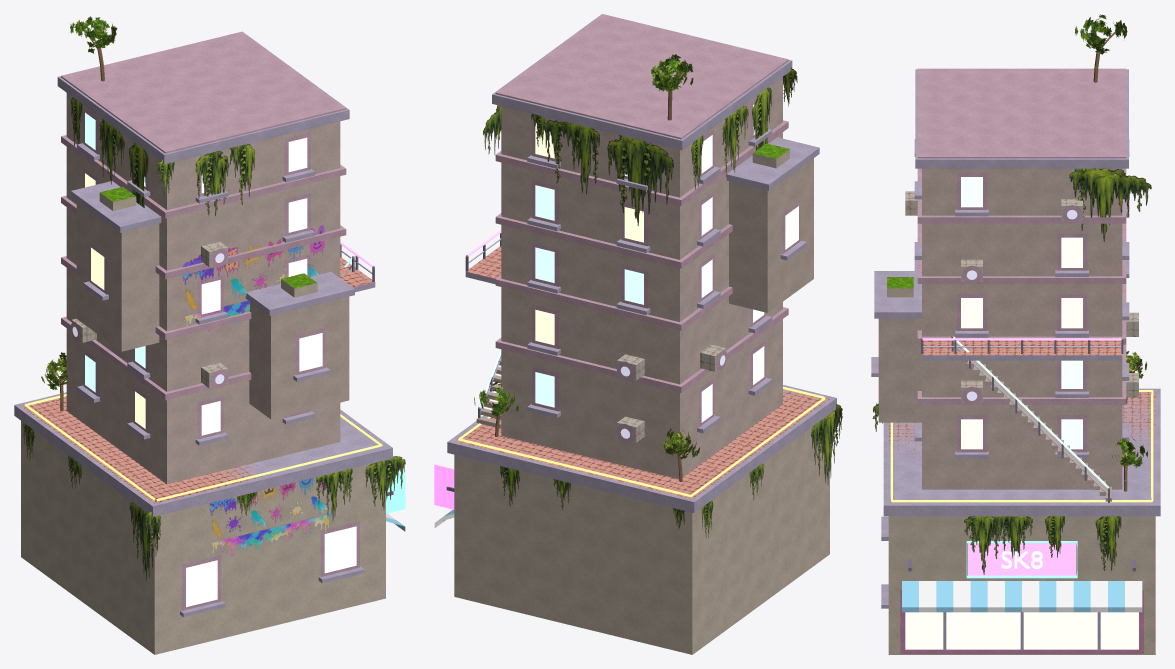
The model's file is MARKET_EAST.glb.
The picture shows the model from 3 angles, left to right: view 1: azimuth 30°, elevation 25°; view 2: azimuth 150°, elevation 25°; view 3: azimuth 270°, elevation 25°; orthographic projection. The views are drawn at different scales.
Parts seen in each view (by area): view 1: MK_East_Body.001, MK_East_Moss2.001, MK_East_Moss.001, MK_East_Trees.001, East_RoofLedge_Rail.001; view 2: MK_East_Body.001, MK_East_Moss2.001, MK_East_Moss.001, MK_East_Trees.001, East_RoofLedge_Rail.001; view 3: MK_East_Body.001, MK_East_Moss.001, MK_East_Moss2.001, MK_East_Trees.001, East_RoofLedge_Rail.001, East_BalconyRail_Posts.001, East_BalconyRail_Rail.001, East_StairRail_Posts.001, East_StairRail_Rail.001, East_ShopText.001.
Boxes of the visible parts, left/top/right/bottom form: MK_East_Body.001: left=14, top=31, right=405, bottom=654; MK_East_Moss2.001: left=70, top=97, right=254, bottom=215; MK_East_Moss.001: left=23, top=422, right=405, bottom=580; MK_East_Trees.001: left=41, top=16, right=117, bottom=410; East_RoofLedge_Rail.001: left=24, top=394, right=382, bottom=501; MK_East_Body.001: left=434, top=14, right=836, bottom=654; MK_East_Moss2.001: left=483, top=67, right=797, bottom=226; MK_East_Moss.001: left=500, top=404, right=842, bottom=538; MK_East_Trees.001: left=474, top=54, right=699, bottom=481; East_RoofLedge_Rail.001: left=458, top=386, right=825, bottom=496; MK_East_Body.001: left=871, top=68, right=1160, bottom=654; MK_East_Moss.001: left=872, top=403, right=1121, bottom=574; MK_East_Moss2.001: left=1069, top=168, right=1151, bottom=241; MK_East_Trees.001: left=1075, top=14, right=1147, bottom=491; East_RoofLedge_Rail.001: left=890, top=390, right=1153, bottom=502; East_BalconyRail_Posts.001: left=921, top=340, right=1123, bottom=353; East_BalconyRail_Rail.001: left=922, top=338, right=1121, bottom=340; East_StairRail_Posts.001: left=951, top=337, right=1109, bottom=502; East_StairRail_Rail.001: left=953, top=337, right=1108, bottom=488; East_ShopText.001: left=1001, top=551, right=1042, bottom=568.
Size of the model in its own units: 19.13 by 36.38 by 17.33.
22 materials, 9 textured.
